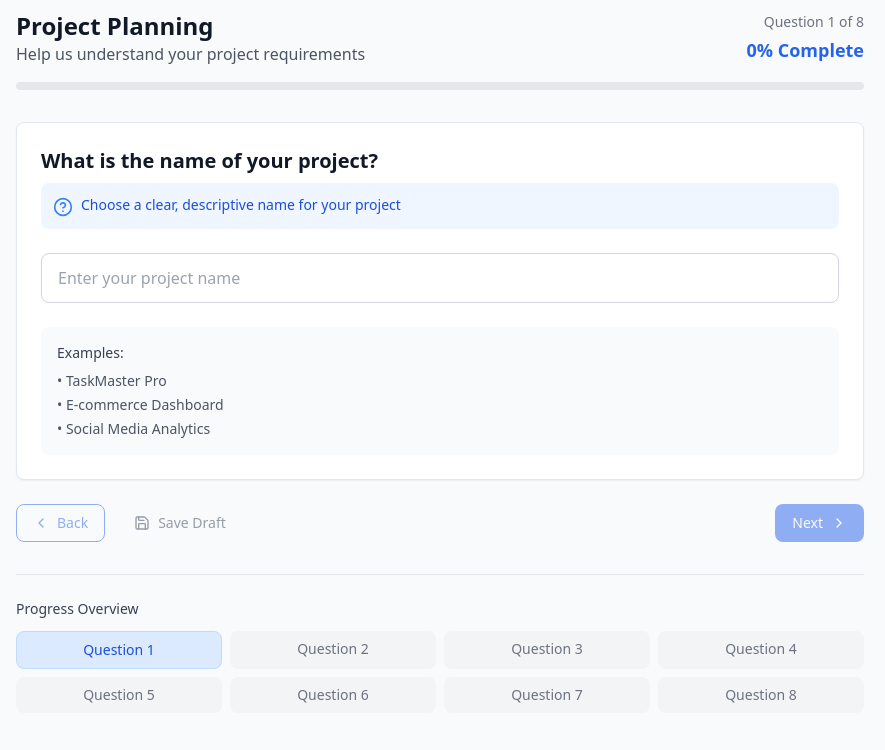
it: PlanningFlow › Validation Logic and Error Handling › should show validation error for too short input
Type "ab" into the field with placeholder "Enter your project name" at (440, 278), box [41, 253, 839, 303]
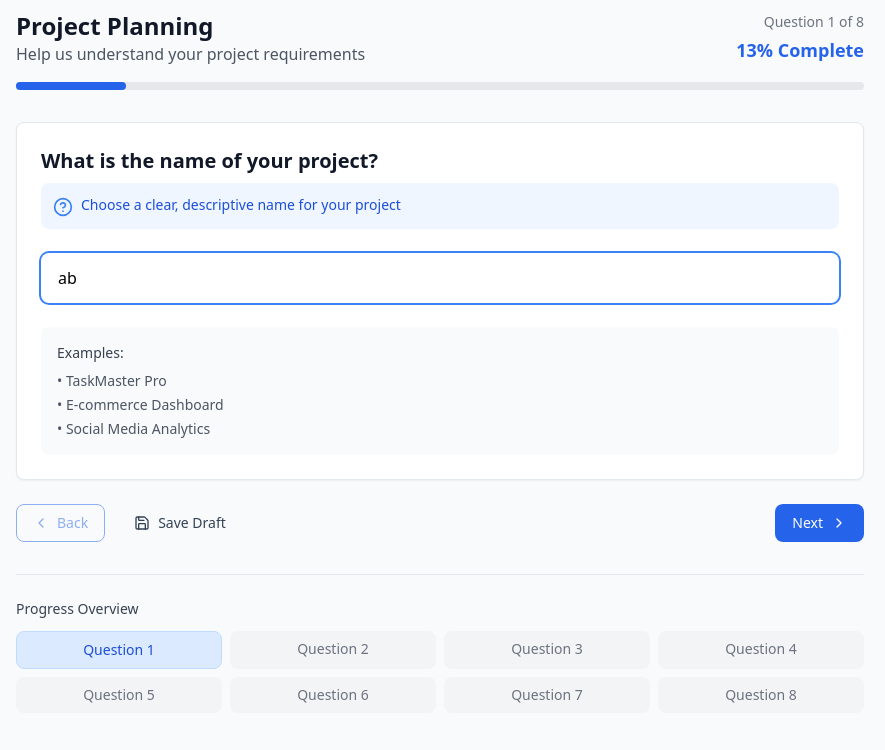
Try to navigate
Click the button "Next" at (820, 523), box [775, 504, 864, 542]
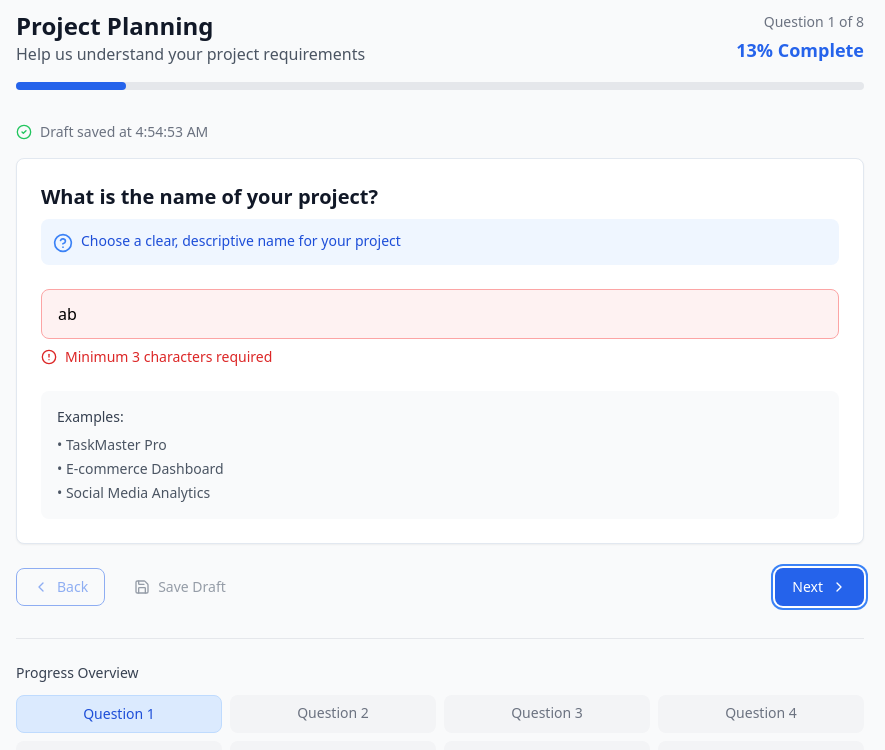
Expected: the text "Minimum 3 characters required" is shown, [65, 347, 272, 367]
